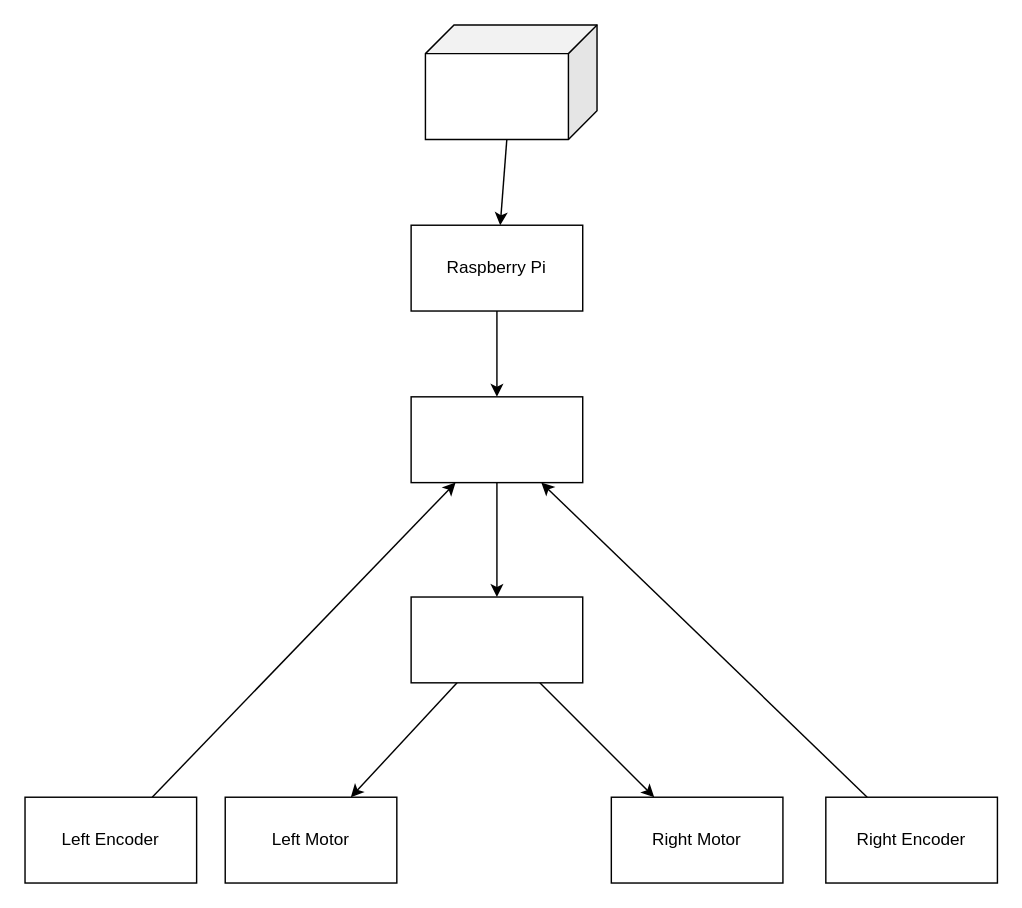
Image size: 1022x908. Some labels were removed from this diagram. The centre of each missing label's shape, as x and y in pixels:
"Motor driver" belongs at point (496, 639).
"Raspberry Pico" belongs at point (496, 439).
"USB Camera" belongs at point (510, 81).
